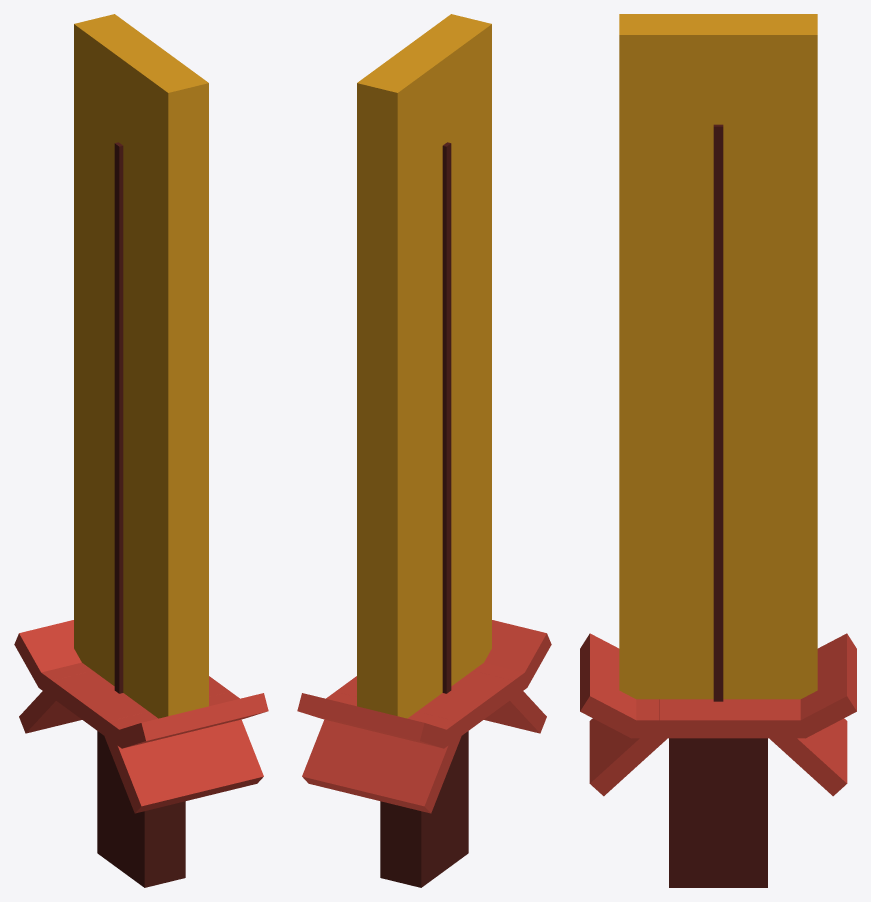
The model's file is KingSword.fbx.
The picture shows the model from 3 angles, left to right: view 1: azimuth 30°, elevation 25°; view 2: azimuth 150°, elevation 25°; view 3: azimuth 270°, elevation 25°; orthographic projection. The views are drawn at different scales.
Parts seen in each view (by area): view 1: Cube.001, Cube.007, Cube.005, Cube.008, Cube.002, Cube.004, Cube.006, Cube.003; view 2: Cube.001, Cube.003, Cube.005, Cube.008, Cube.002, Cube.006, Cube.004, Cube.007; view 3: Cube.001, Cube.005, Cube.008, Cube.002, Cube.004, Cube.006, Cube.007, Cube.003.
Boxes of the visible parts, x1,y1,x2,y2 form: Cube.001: [74, 14, 208, 718]; Cube.007: [104, 719, 263, 813]; Cube.005: [97, 731, 185, 887]; Cube.008: [114, 142, 123, 693]; Cube.002: [39, 662, 239, 747]; Cube.004: [119, 693, 268, 748]; Cube.006: [14, 620, 81, 687]; Cube.003: [19, 681, 81, 733]; Cube.001: [357, 14, 491, 718]; Cube.003: [302, 719, 464, 813]; Cube.005: [380, 731, 468, 887]; Cube.008: [442, 142, 451, 693]; Cube.002: [326, 662, 526, 747]; Cube.006: [297, 693, 448, 748]; Cube.004: [484, 620, 551, 687]; Cube.007: [484, 681, 546, 733]; Cube.001: [619, 14, 817, 699]; Cube.005: [669, 738, 767, 887]; Cube.008: [713, 124, 723, 701]; Cube.002: [632, 699, 805, 738]; Cube.004: [580, 633, 640, 738]; Cube.006: [797, 633, 856, 738]; Cube.007: [589, 699, 673, 796]; Cube.003: [769, 699, 847, 796].
Bounding box in the file's own units: 30 × 190 × 55.91.
